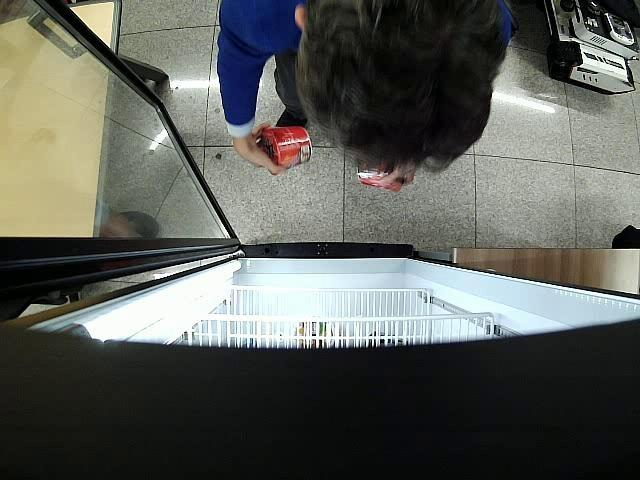01_ShinRamen_L: (258, 126, 312, 176)
